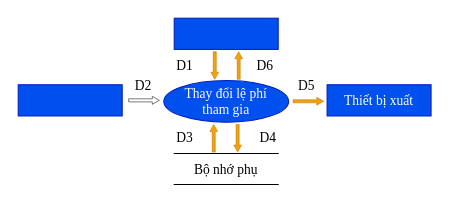
Image size: 449x203. Some labels were removed from this diagram. The centre of each missing label's shape, as x and y in pixels:
"Người dùng" belongs at (x=225, y=33).
"Thiết bị nhập" belongs at (x=69, y=100).
